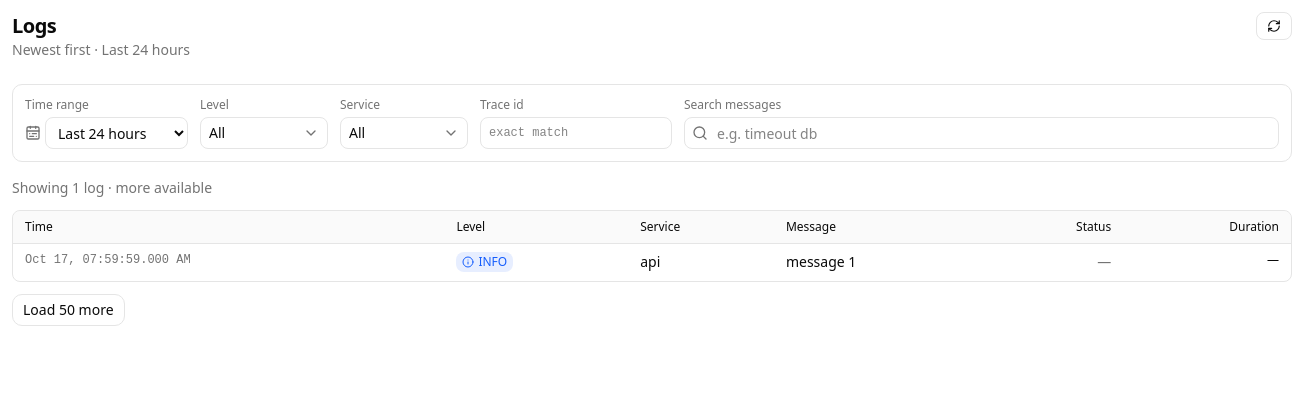
Test case: LogsExplorer › keeps rows when loading more fails
Click the button "Load 50 more" at (68, 310), box [12,294,124,326]
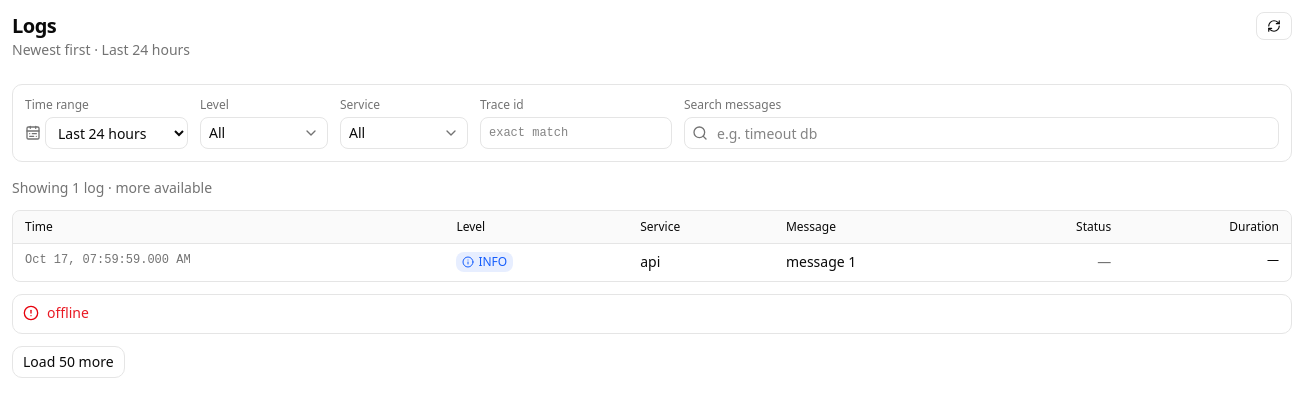
Expected: the number of rows with test id "log-row" is 1, [13,244,1291,281]
Now the message "offline" is shown, box [12,294,1292,334]
